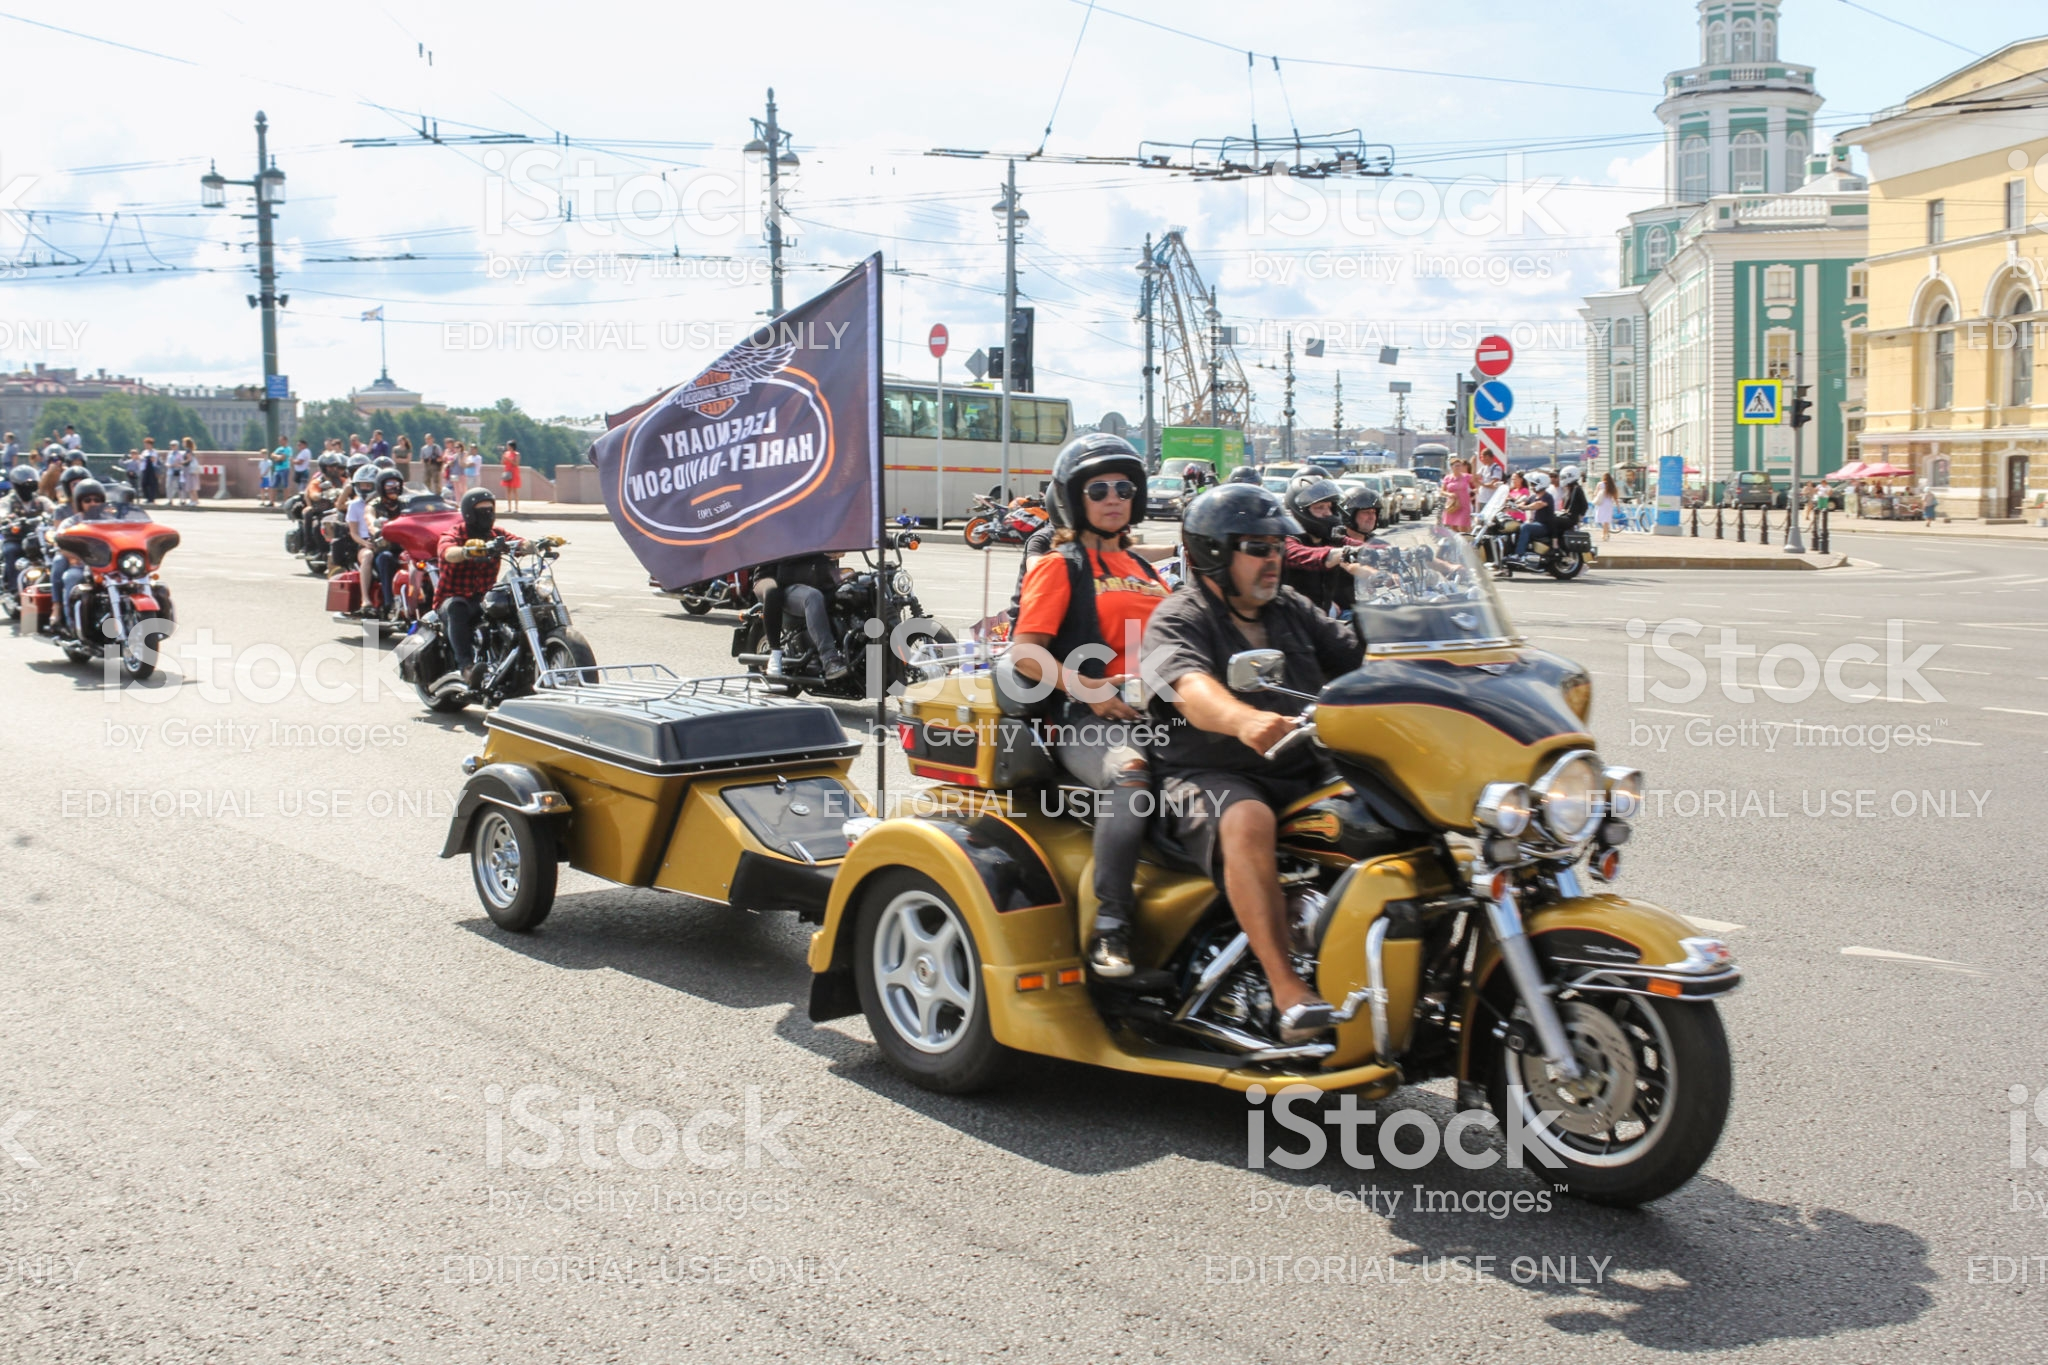helmet: (1058, 433, 1140, 506), (1182, 492, 1281, 539), (475, 486, 504, 536), (84, 487, 110, 510)
